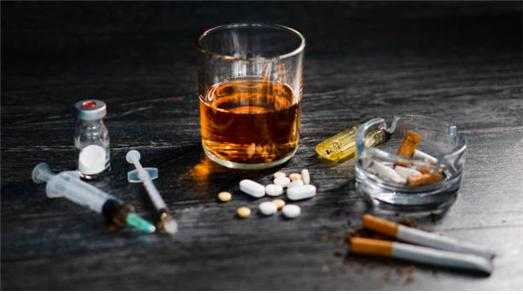alcohol: (197, 21, 299, 166)
cigarette: (347, 232, 494, 273), (364, 212, 495, 251), (367, 132, 441, 188)
